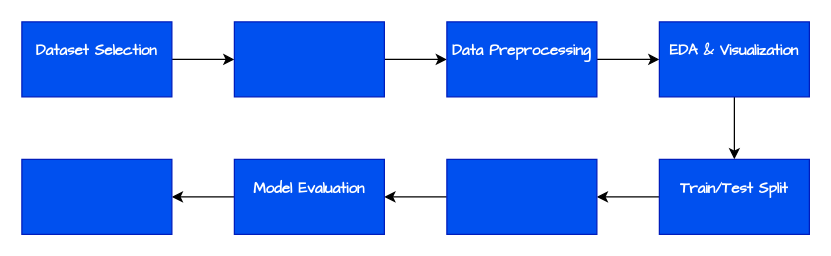
Image size: 831x256. Some labels were removed from this diagram. The shapes that lost their labels are listed below. From the top down, each one's centre as x and y in pixels, then its label:
At point 308,59: "Data Loading".
At point 96,196: "Results".
At point 521,196: "Model Training".
